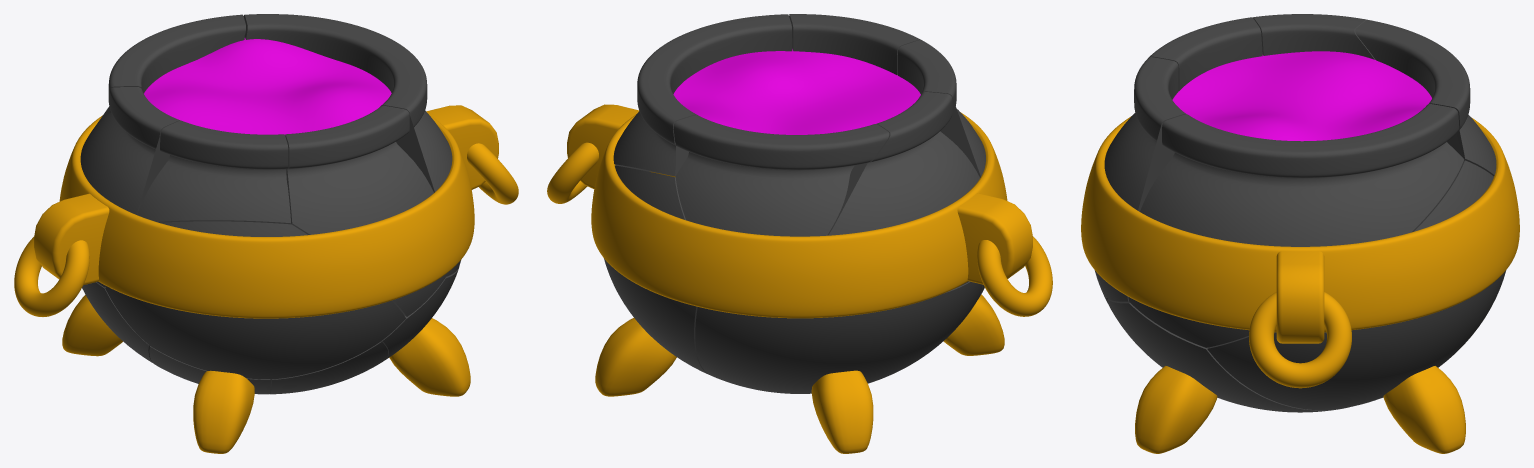
Rendered from calderoLila.fbx.
3 renders of one model, left to right at view 1: azimuth 30°, elevation 25°; view 2: azimuth 150°, elevation 25°; view 3: azimuth 270°, elevation 25°, orthographic. The views are drawn at different scales.
Visible parts, largest first — view 1: Sphere.001, Circle.022, Sphere_cell.004, Sphere_cell.011, Sphere_cell.003, Sphere_cell.010, Sphere_cell.007, Cube.530, BézierCircle, Sphere_cell.001, Plane.157, Plane.158 (+5 smaller); view 2: Sphere.001, Sphere_cell.001, Sphere_cell.002, Circle.022, Sphere_cell.007, Sphere_cell.010, Cube.530, Sphere_cell.008, BézierCircle, Sphere_cell.011, Plane.156, Plane.155 (+2 smaller); view 3: Sphere.001, Sphere_cell.010, Circle.022, Sphere_cell.008, Sphere_cell.011, Sphere_cell.001, Sphere_cell.005, Plane.155, Plane.158, BézierCircle, Cube.530, Sphere_cell.003 (+1 smaller).
Boxes of the visible parts, box(x1,y1,x2,y2) form: Sphere.001: box(59, 114, 474, 318); Circle.022: box(144, 38, 391, 135); Sphere_cell.004: box(105, 221, 405, 379); Sphere_cell.011: box(285, 105, 446, 316); Sphere_cell.003: box(136, 120, 290, 224); Sphere_cell.010: box(243, 14, 460, 276); Sphere_cell.007: box(80, 87, 180, 287); Cube.530: box(34, 105, 498, 284); BézierCircle: box(14, 143, 518, 316); Sphere_cell.001: box(108, 14, 245, 93); Plane.157: box(193, 370, 254, 453); Plane.158: box(389, 318, 470, 396); Sphere.001: box(591, 112, 1007, 318); Sphere_cell.001: box(673, 115, 889, 236); Sphere_cell.002: box(695, 281, 982, 393); Circle.022: box(673, 49, 920, 134); Sphere_cell.007: box(827, 92, 979, 287); Sphere_cell.010: box(613, 14, 792, 176); Cube.530: box(567, 104, 1032, 284); Sphere_cell.008: box(604, 165, 708, 374); BézierCircle: box(547, 142, 1052, 316); Sphere_cell.011: box(789, 14, 920, 75); Plane.156: box(811, 370, 873, 453); Plane.155: box(595, 318, 676, 396); Sphere.001: box(1081, 116, 1519, 332); Sphere_cell.010: box(1128, 104, 1464, 347); Circle.022: box(1172, 51, 1431, 141); Sphere_cell.008: box(1207, 160, 1506, 410); Sphere_cell.011: box(1096, 57, 1186, 301); Sphere_cell.001: box(1355, 20, 1496, 176); Sphere_cell.005: box(1107, 299, 1345, 412); Plane.155: box(1383, 366, 1465, 453); Plane.158: box(1135, 366, 1217, 453); BézierCircle: box(1249, 292, 1351, 388); Cube.530: box(1276, 251, 1324, 343); Sphere_cell.003: box(1134, 17, 1262, 113).
Size of the model in its own units: 428 by 247 by 318.
